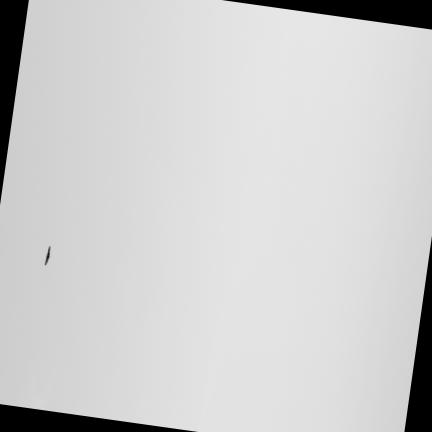Shahed: (44, 245, 50, 263)
